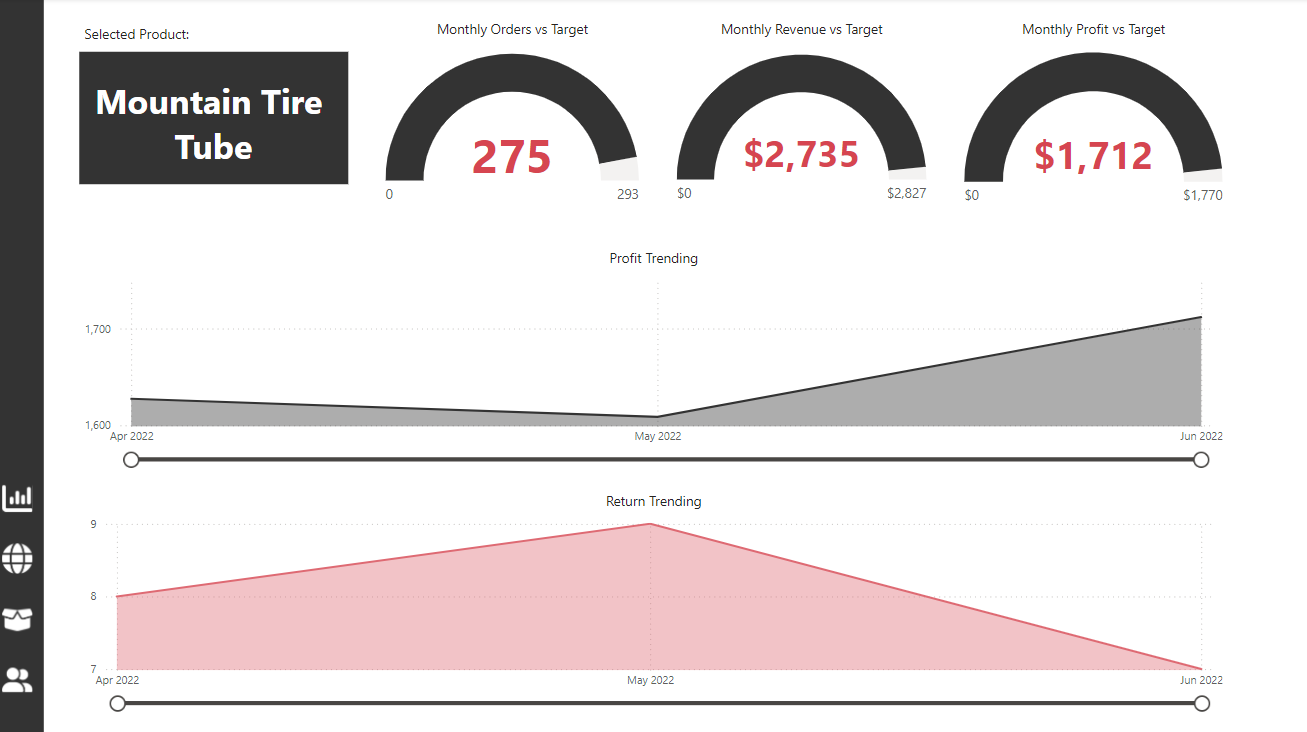

What the dashboard file says about the page in this screenshot:
{"tool":"powerbi","page":{"name":"Product Detail","canvas":[1280,720],"ordinal":2},"visuals":[{"type":"shape","box":[0,0,45,720],"z":0},{"type":"actionButton","box":[0,470.8,53.8,37.9],"z":0,"group":"g1"},{"type":"gauge","title":"Monthly Orders vs Target","fields":{"Y":["Measure Table.Total Orders"],"MaxValue":["Measure Table.Order Target"]},"box":[373.7,20.5,258,201.8],"z":1000},{"type":"actionButton","box":[0,529.9,53.8,37.9],"z":1000,"group":"g1"},{"type":"gauge","title":"Monthly Revenue vs Target","fields":{"Y":["Measure Table.Total Revenue"],"MaxValue":["Measure Table.Revenue Target"]},"box":[658.9,20.5,254.3,201.8],"z":2000},{"type":"actionButton","box":[0,589,53.8,37.9],"z":2000,"group":"g1"},{"type":"gauge","title":"Monthly Profit vs Target","fields":{"Y":["Measure Table.Total Profit"],"MaxValue":["Measure Table.Profit Target"]},"box":[940.4,20.5,262.9,201.8],"z":3000},{"type":"actionButton","box":[0,648.1,53.8,37.9],"z":3000,"group":"g1"},{"type":"areaChart","title":"Profit Trending","fields":{"Y":["Measure Table.Total Profit"],"Category":["Calendar Lookup.Date.Variation.Date Hierarchy.Year","Calendar Lookup.Date.Variation.Date Hierarchy.Quarter","Calendar Lookup.Date.Variation.Date Hierarchy.Month","Calendar Lookup.Date.Variation.Date Hierarchy.Day"]},"box":[79.5,244.6,1123.8,217.7],"z":4000},{"type":"areaChart","title":"Return Trending","fields":{"Y":["Measure Table.Total Returns"],"Category":["Calendar Lookup.Date Hierarchy.Start of Year","Calendar Lookup.Date Hierarchy.Start of Month","Calendar Lookup.Date Hierarchy.Start of Week","Calendar Lookup.Date Hierarchy.Date"]},"box":[79.5,483,1123.8,217.7],"z":5000},{"type":"card","fields":{"Values":["Min(Product Lookup.ProductName)"]},"box":[79.5,52.6,262.9,129.6],"z":6000},{"type":"textbox","box":[79.5,20.8,145.5,41.6],"z":7000},{"type":"group","id":"g1","title":"Page Navigation Buttons","box":[0,470.8,53.8,215.2],"z":8000}]}

Visuals, with their boxes on the page's 1280x720 design canvas (x1, y1, x2, y2). These are canvas units, not pixel positions in the 1307x732 screenshot, which may show the page scaled, cropped or inside an application window:
shape: crop(0, 0, 45, 720)
actionButton: crop(0, 471, 54, 509)
"Monthly Orders vs Target" gauge: crop(374, 20, 632, 222)
actionButton: crop(0, 530, 54, 568)
"Monthly Revenue vs Target" gauge: crop(659, 20, 913, 222)
actionButton: crop(0, 589, 54, 627)
"Monthly Profit vs Target" gauge: crop(940, 20, 1203, 222)
actionButton: crop(0, 648, 54, 686)
"Profit Trending" areaChart: crop(80, 245, 1203, 462)
"Return Trending" areaChart: crop(80, 483, 1203, 701)
card - Min(Product Lookup.ProductName): crop(80, 53, 342, 182)
textbox: crop(80, 21, 225, 62)
"Page Navigation Buttons" group: crop(0, 471, 54, 686)
